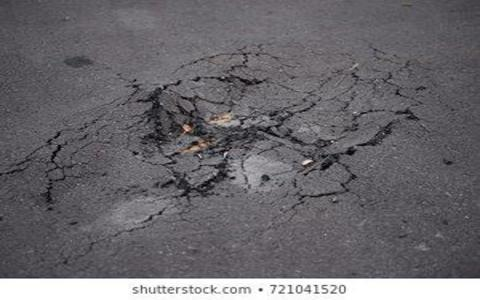patchy roads: (24, 38, 401, 249)
